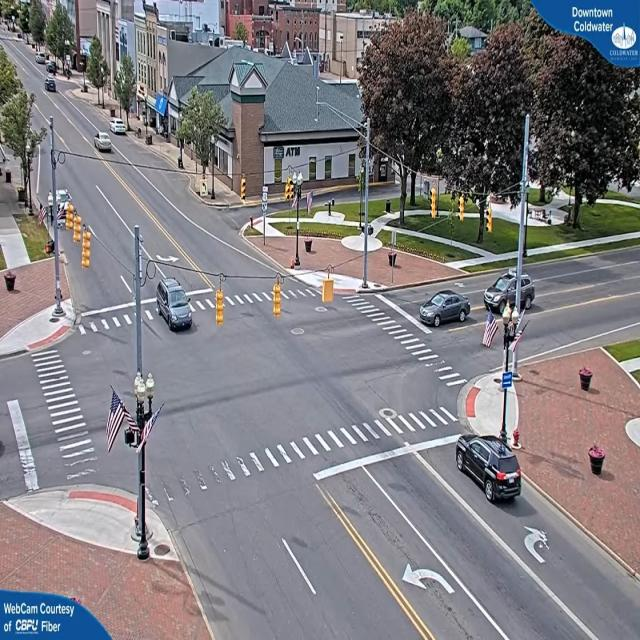car: (456, 432, 525, 504), (156, 278, 194, 332), (419, 290, 471, 328), (94, 130, 114, 152), (111, 119, 128, 136)
